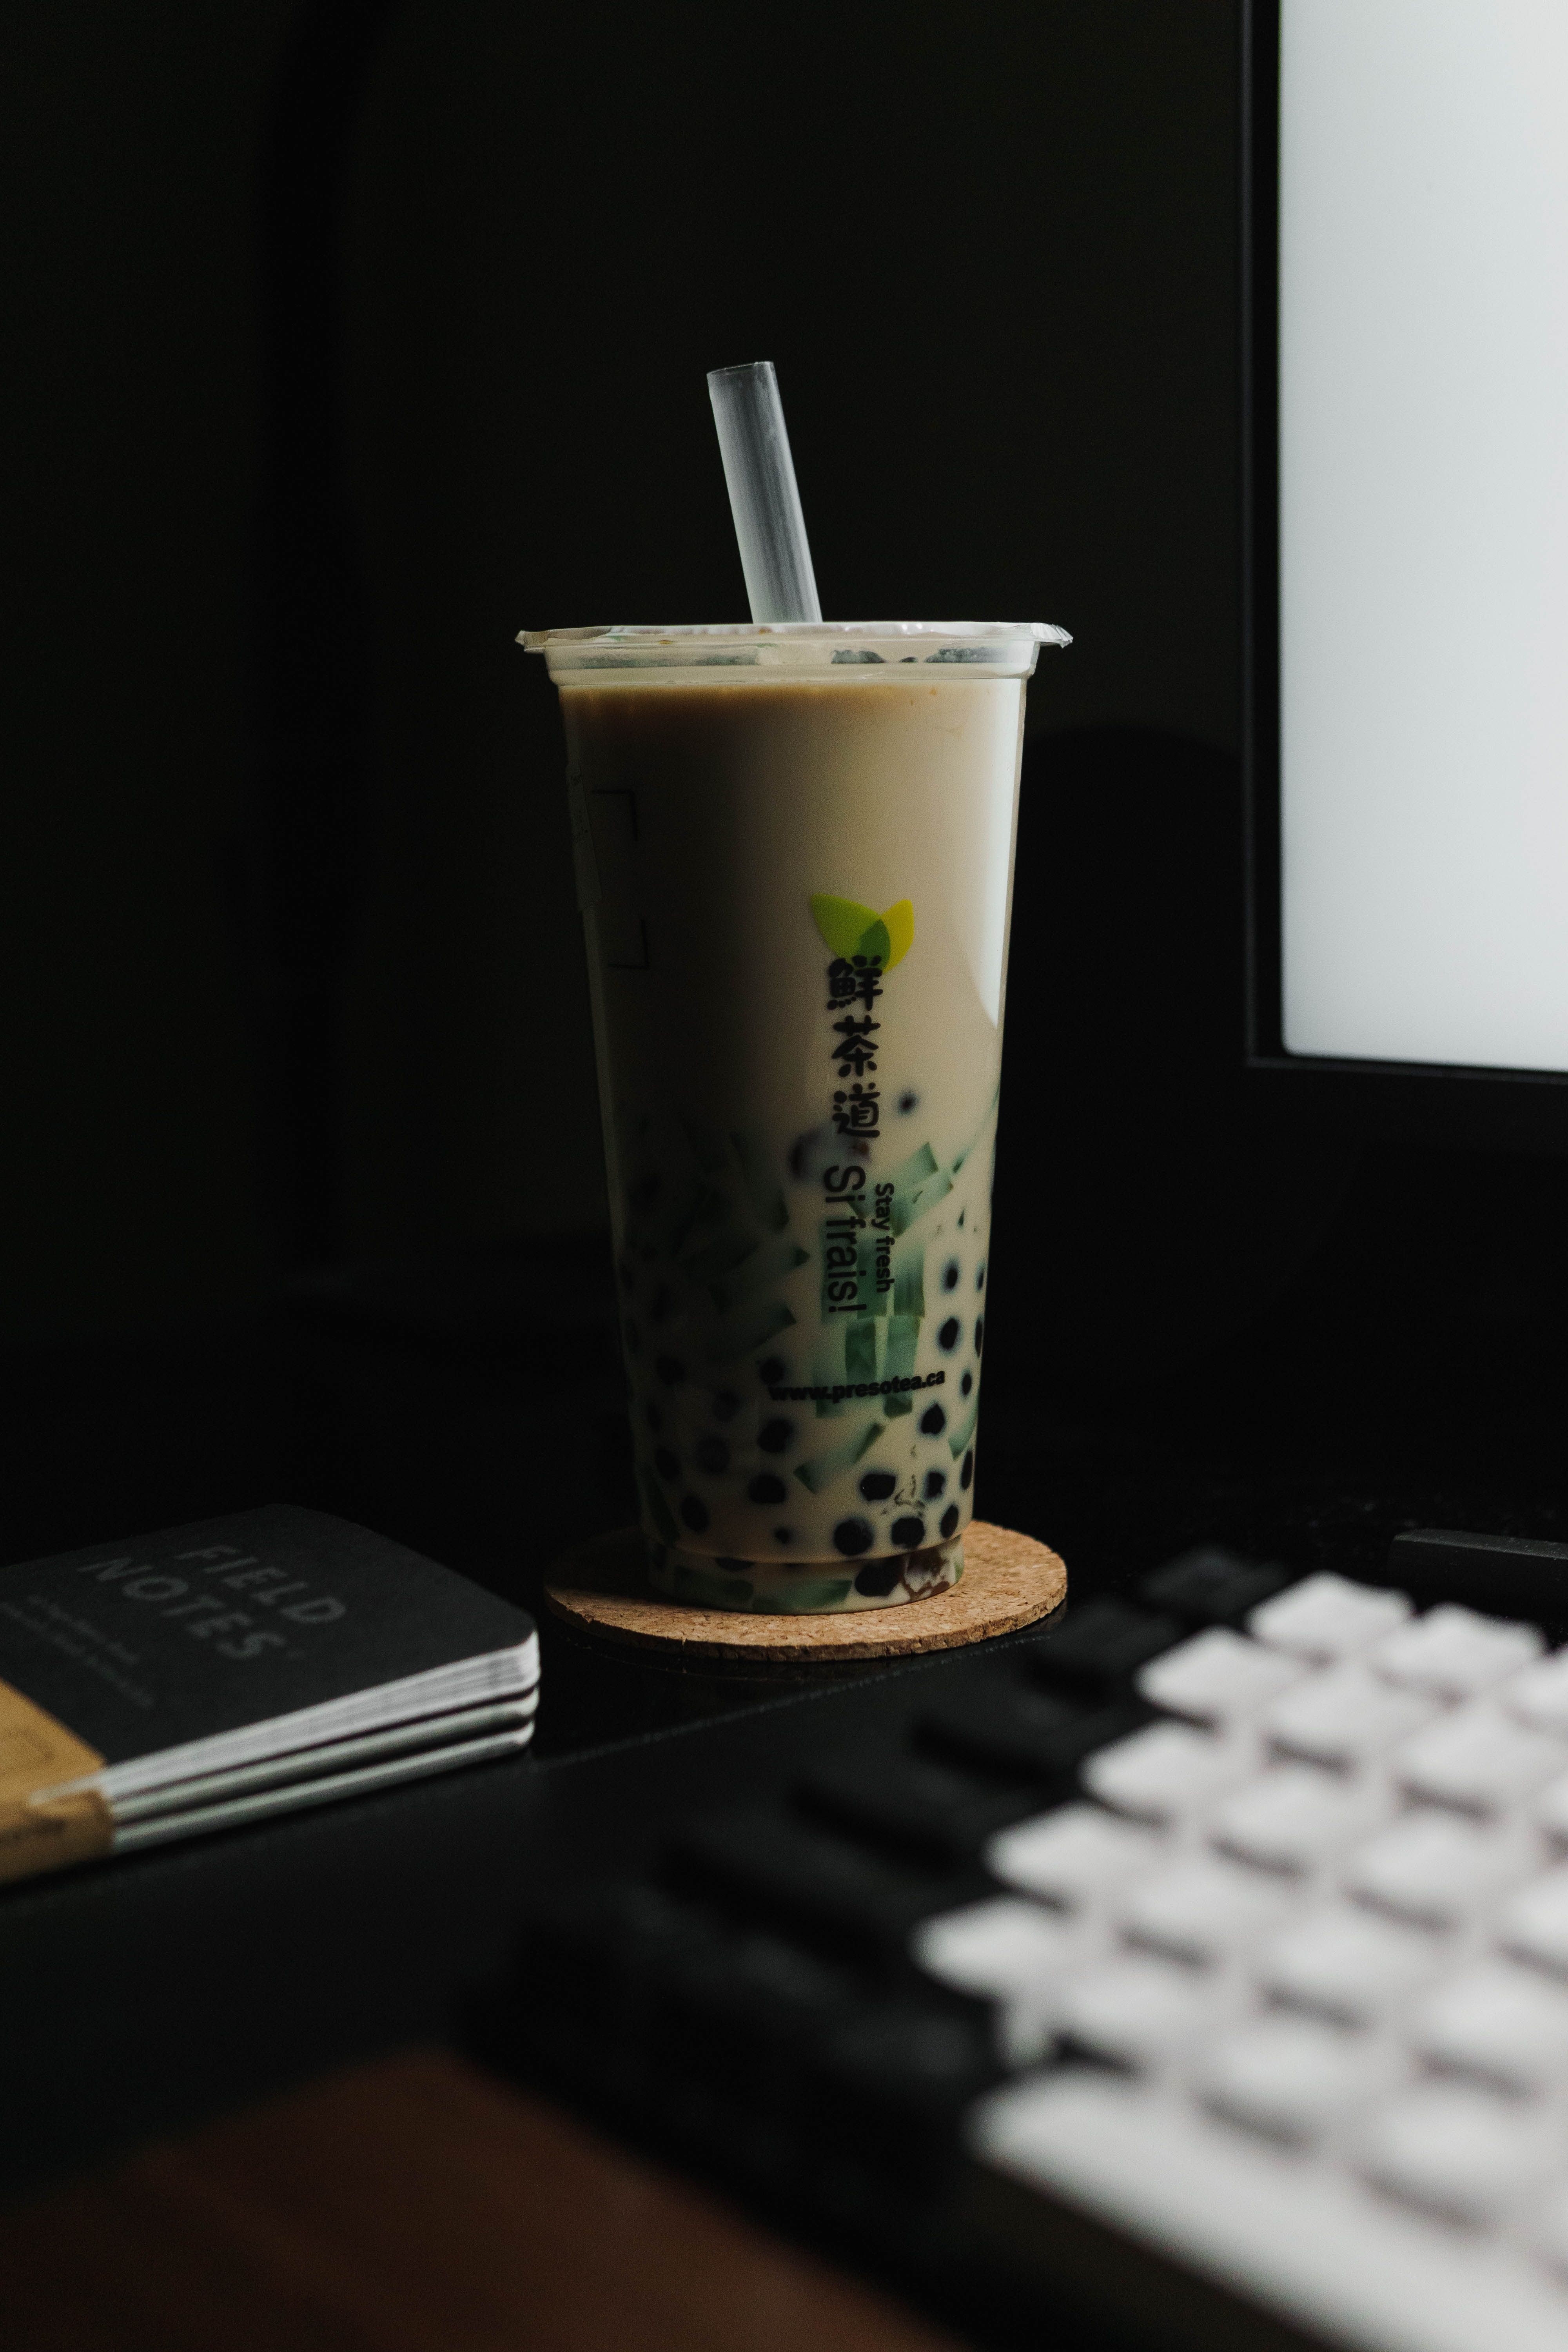boba: (789, 1123, 872, 1185), (857, 1556, 908, 1598), (795, 1575, 852, 1610), (710, 1571, 763, 1605), (758, 1414, 798, 1454), (831, 1519, 873, 1554), (749, 1470, 789, 1505), (675, 1494, 710, 1535), (693, 1435, 728, 1475), (672, 1566, 712, 1600), (889, 1517, 926, 1551), (716, 1543, 754, 1573), (759, 1351, 788, 1388), (861, 1468, 892, 1500), (914, 1547, 947, 1577), (921, 1402, 949, 1437), (751, 1594, 793, 1617), (938, 1319, 961, 1353), (921, 1472, 945, 1502), (940, 1505, 961, 1537), (770, 1524, 796, 1549), (959, 1449, 975, 1489), (782, 1557, 808, 1578), (900, 1090, 917, 1118), (943, 1263, 959, 1290), (973, 1316, 984, 1355), (959, 1370, 973, 1395), (976, 1265, 987, 1288)
